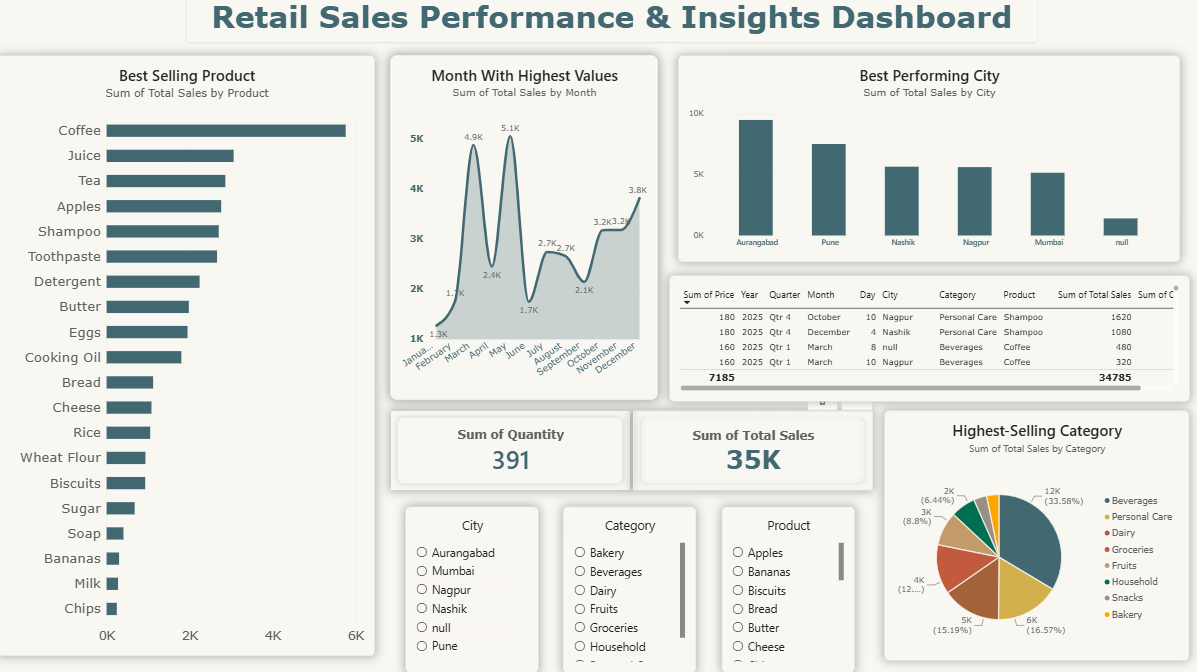

This screenshot's page, from the dashboard's own definition file:
{"tool":"powerbi","page":{"name":"Page 1","canvas":[1920,1080],"ordinal":0},"visuals":[{"type":"textbox","box":[332,0,1357.3,69.7],"z":0},{"type":"cardVisual","title":"Total Quantity Sold","fields":{"Data":["Sum(Sheet1.Quantity)"]},"box":[627.3,660.3,383.4,128.4],"z":1000},{"type":"clusteredBarChart","title":"Best Selling Product","fields":{"Category":["Sheet1.Product"],"Y":["Sum(Sheet1.Total Sales)"]},"box":[0,91.7,603.5,961.1],"z":2000},{"type":"pieChart","title":"Highest-Selling Category","fields":{"Category":["Sheet1.Category"],"Y":["Sum(Sheet1.Total Sales)"]},"box":[1417.9,660.3,487.9,399.9],"z":3000},{"type":"lineChart","title":"Month With Highest Values","fields":{"Category":["Sheet1.Date.Variation.Date Hierarchy.Month"],"Y":["Sum(Sheet1.Total Sales)"]},"box":[627.3,91.7,427.4,550.3],"z":4000},{"type":"clusteredColumnChart","title":"Best Performing City","fields":{"Category":["Sheet1.City"],"Y":["Sum(Sheet1.Total Sales)"]},"box":[1087.7,91.7,803.4,330.2],"z":5000},{"type":"cardVisual","title":"Total Sales","fields":{"Data":["Sum(Sheet1.Total Sales)"]},"box":[1016.2,660.3,383.4,128.4],"z":6000},{"type":"tableEx","fields":{"Values":["Sum(Sheet1.Price)","Sheet1.Date.Variation.Date Hierarchy.Year","Sheet1.Date.Variation.Date Hierarchy.Quarter","Sheet1.Date.Variation.Date Hierarchy.Month","Sheet1.Date.Variation.Date Hierarchy.Day","Sheet1.City","Sheet1.Category","Sheet1.Product","Sum(Sheet1.Total Sales)","Sum(Sheet1.Quantity)"]},"box":[1073,443.9,832.7,201.8],"z":7000},{"type":"listSlicer","fields":{"Values":["Sheet1.City"]},"box":[653,814.4,212.8,266],"z":8000},{"type":"listSlicer","fields":{"Values":["Sheet1.Category"]},"box":[904.3,814.4,212.8,266],"z":9000},{"type":"listSlicer","fields":{"Values":["Sheet1.Product"]},"box":[1157.4,814.4,212.8,266],"z":10000}]}

Visuals, with their boxes in screenshot pixels (x1, y1, x2, y2), scaled from the page's 1920x1080 canvas onto the 1197x672 screenshot:
textbox: (207,0,1053,43)
"Total Quantity Sold" cardVisual: (391,411,630,491)
"Best Selling Product" clusteredBarChart: (0,57,376,655)
"Highest-Selling Category" pieChart: (884,411,1188,660)
"Month With Highest Values" lineChart: (391,57,658,399)
"Best Performing City" clusteredColumnChart: (678,57,1179,263)
"Total Sales" cardVisual: (634,411,873,491)
tableEx - Sum(Sheet1.Price) x Sheet1.Date.Variation.Date Hierarchy.Year: (669,276,1188,402)
listSlicer - Sheet1.City: (407,507,540,671)
listSlicer - Sheet1.Category: (564,507,696,671)
listSlicer - Sheet1.Product: (722,507,854,671)
